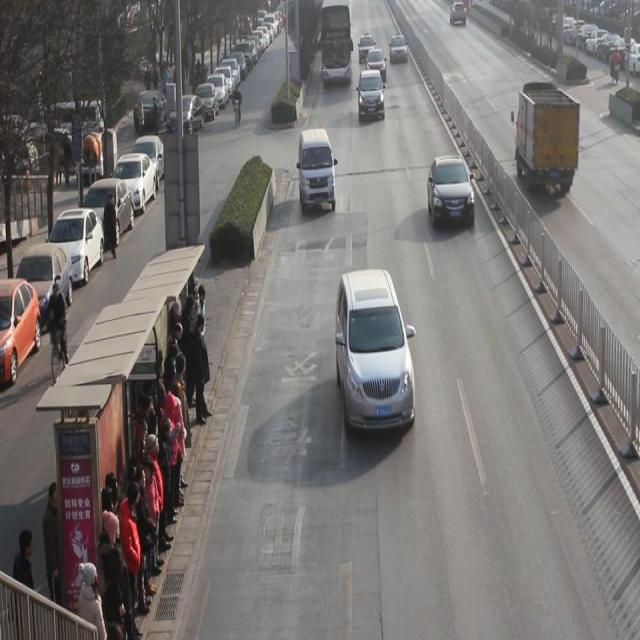bus: (518, 83, 580, 198)
car: (337, 270, 415, 439), (428, 156, 475, 233), (358, 69, 386, 123), (366, 48, 387, 82)
truck: (298, 130, 336, 215)
van: (322, 1, 353, 90)
